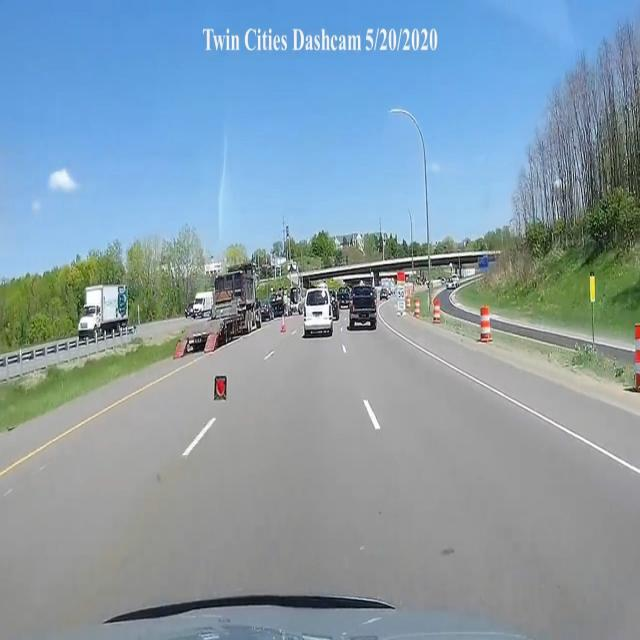cone: (216, 375, 230, 397), (278, 319, 286, 336)
